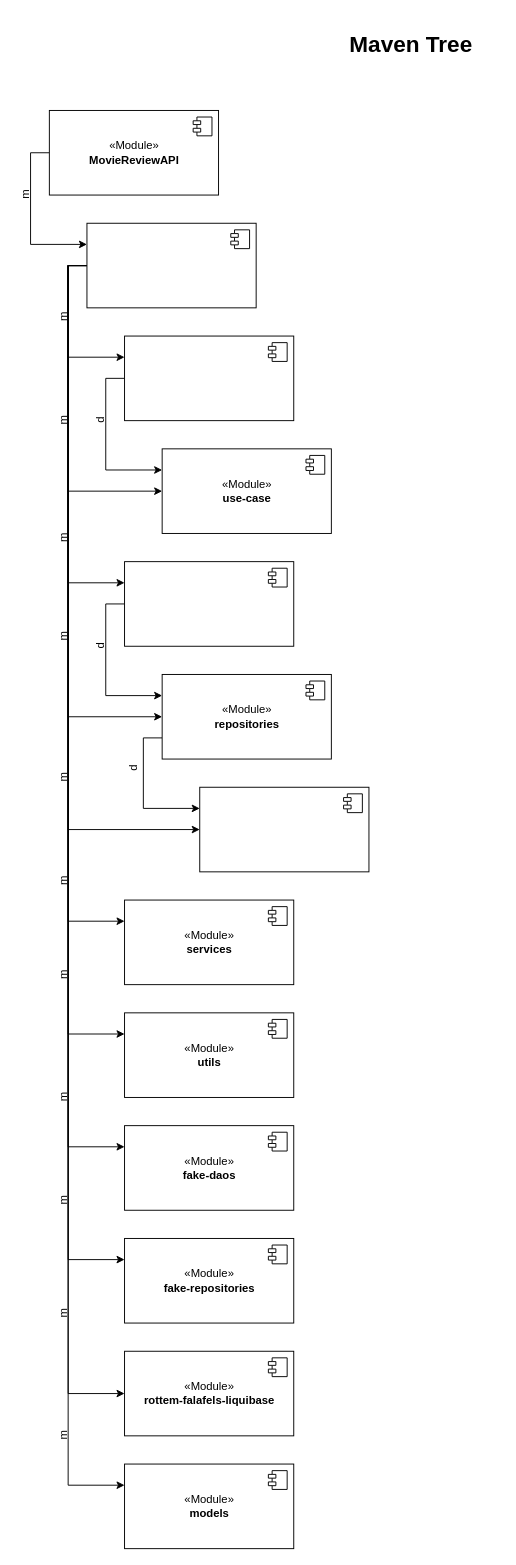
This 516x1565 diagram has some shape labels left out. The shapes that lost their labels are listed below. From the top down, each one's centre as x and y in pixels, then its label:
the point at 171,265: «Module» rotten-falafels-api
the point at 209,378: «Module» controllers
the point at 209,603: «Module» daos
the point at 284,829: «Module» entities
